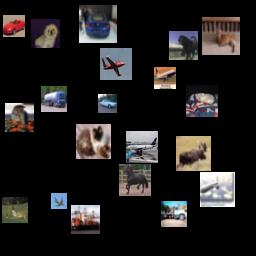airplane: (200, 172, 235, 207), (126, 131, 158, 163), (100, 48, 132, 80), (154, 67, 176, 89), (51, 193, 67, 209)
automobile: (79, 5, 117, 43), (3, 15, 25, 37), (98, 94, 117, 113)
bird: (5, 103, 34, 132)
cat: (76, 124, 111, 159)
deer: (202, 17, 240, 55), (176, 136, 211, 171), (2, 197, 28, 223)
dog: (186, 85, 218, 117), (31, 19, 60, 48), (169, 31, 198, 60)
ship: (71, 205, 100, 234)
truck: (41, 86, 67, 112), (161, 201, 187, 227)
